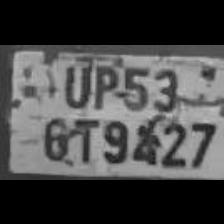2: (157, 114, 187, 166)
3: (181, 60, 219, 104), (148, 63, 180, 109)
4: (130, 113, 160, 166)
5: (118, 61, 150, 109)
7: (184, 114, 216, 168)
9: (97, 113, 128, 164)
G: (38, 111, 70, 161)
P: (89, 59, 119, 109)
T: (69, 114, 97, 164)
U: (58, 56, 92, 107)
